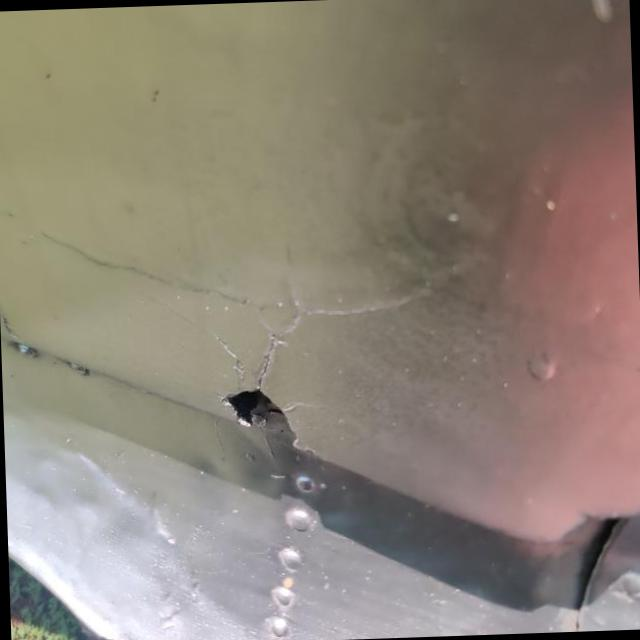Crack: (223, 332, 297, 466), (216, 337, 246, 387)
